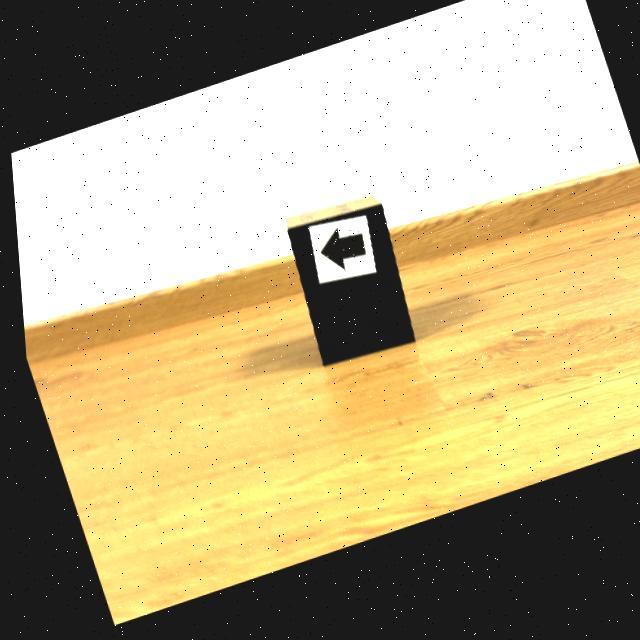LEFT: (316, 234, 362, 275)
